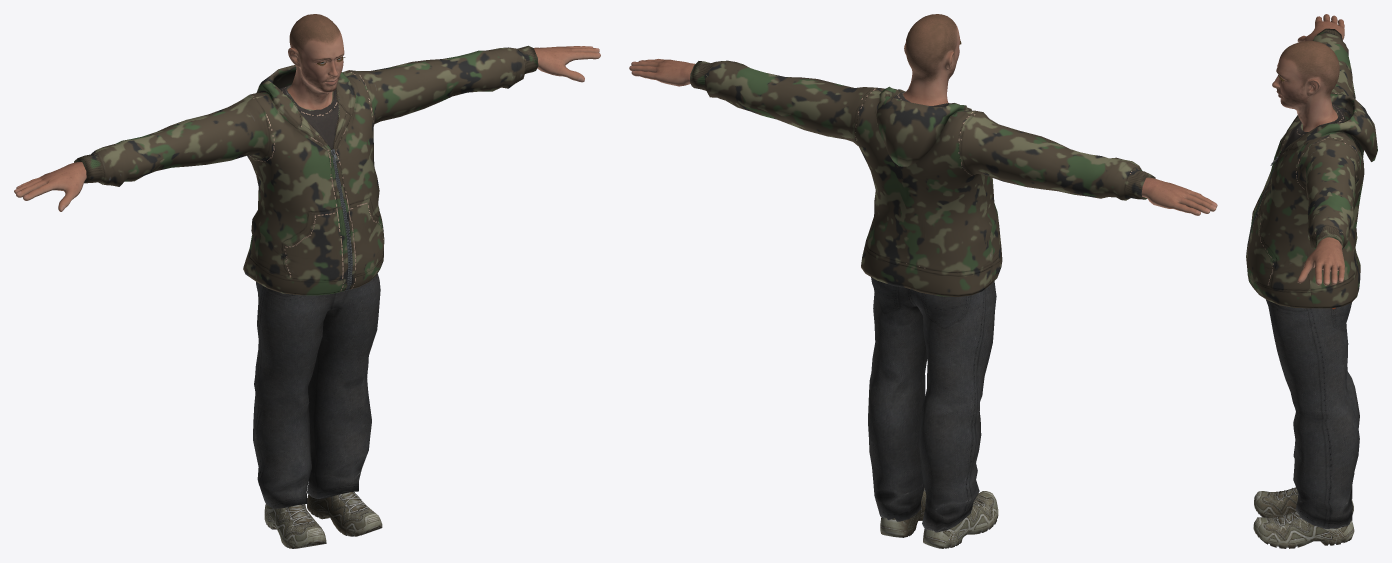
File: sinan.obj
The picture shows the model from 3 angles, left to right: view 1: azimuth 30°, elevation 25°; view 2: azimuth 150°, elevation 25°; view 3: azimuth 270°, elevation 25°; orthographic projection. The views are drawn at different scales.
Parts seen in each view (by area): view 1: Tops, Bottoms, Body, Shoes; view 2: Tops, Bottoms, Body, Shoes; view 3: Tops, Bottoms, Body, Shoes.
Part boxes in pixels (x1,y1,x2,y2): Tops: (74,45,538,295); Bottoms: (253,273,380,508); Body: (14,14,600,211); Shoes: (264,491,382,548); Tops: (690,60,1155,297); Bottoms: (868,277,996,532); Body: (629,14,1217,215); Shoes: (880,488,998,548); Tops: (1246,28,1377,308); Bottoms: (1266,299,1359,528); Body: (1272,14,1344,285); Shoes: (1253,487,1354,548).
Size of the model in its own units: 213 by 178 by 43.83.
4 materials, 4 textured.
